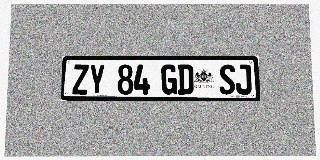4: (134, 64, 150, 94)
8: (117, 64, 133, 94)
D: (177, 64, 193, 94)
G: (161, 64, 177, 94)
J: (235, 64, 252, 94)
S: (219, 64, 235, 94)
Y: (89, 64, 105, 94)
Z: (72, 64, 89, 94)
